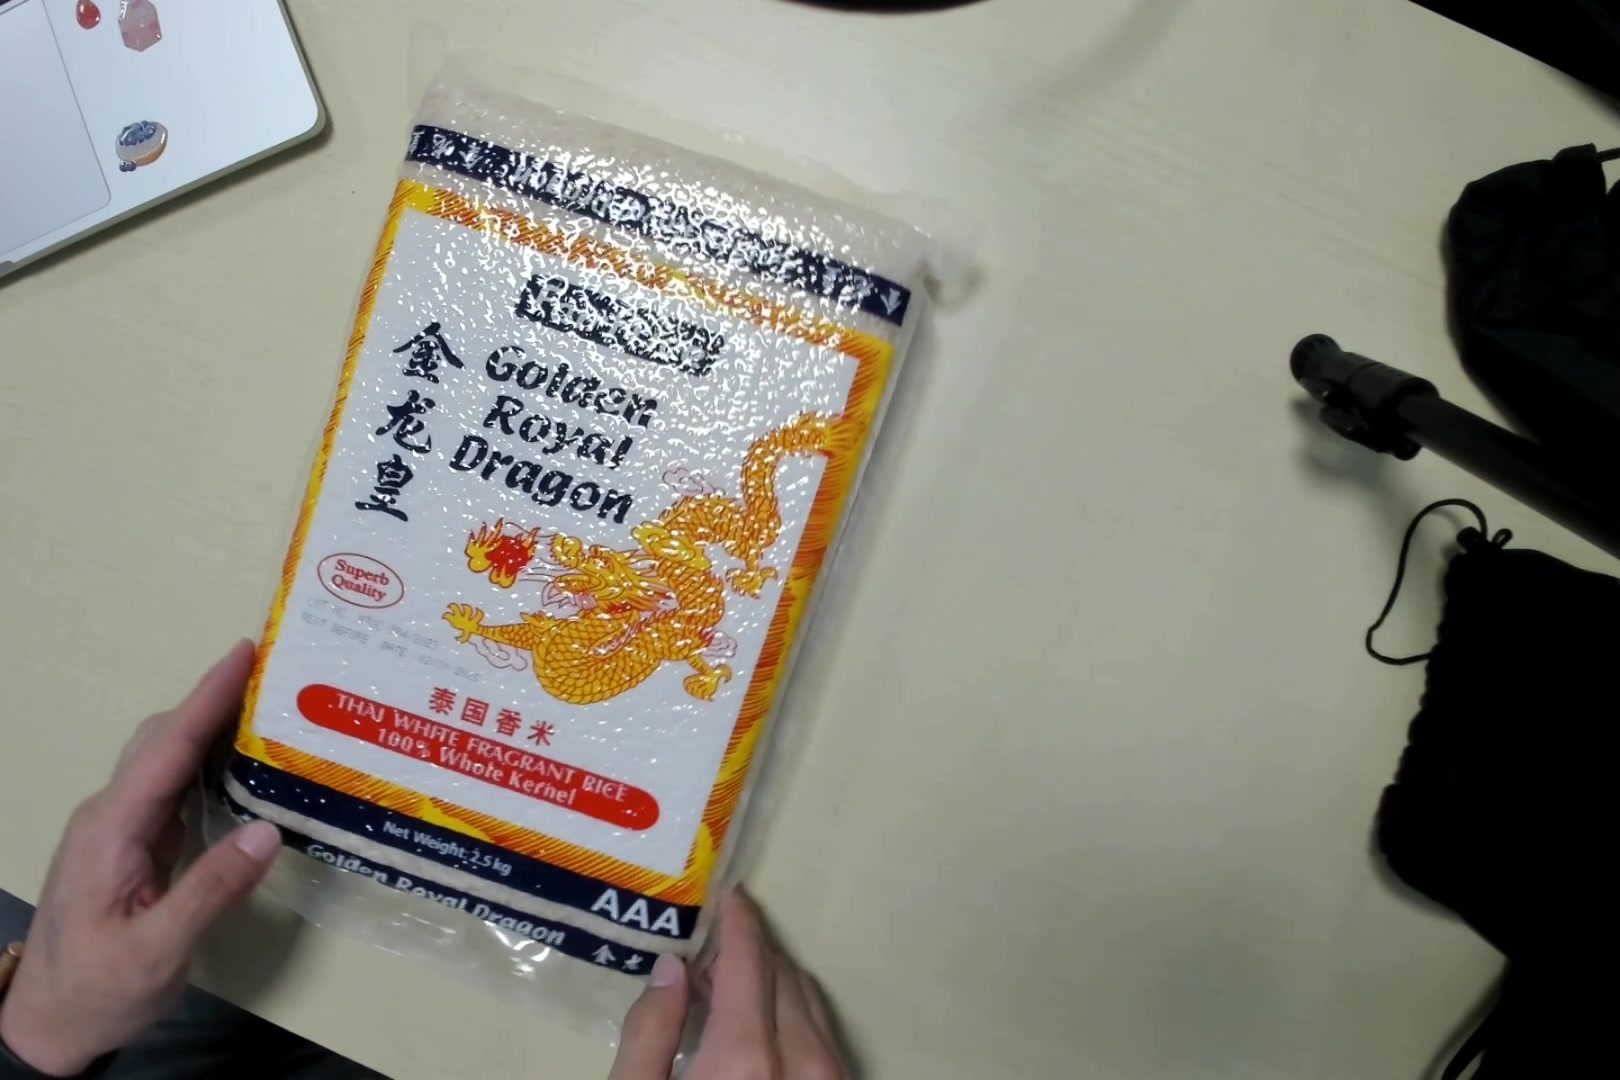Rice(White)_2000-2999g_NonHalal_NonHealthy: (231, 63, 955, 968)
